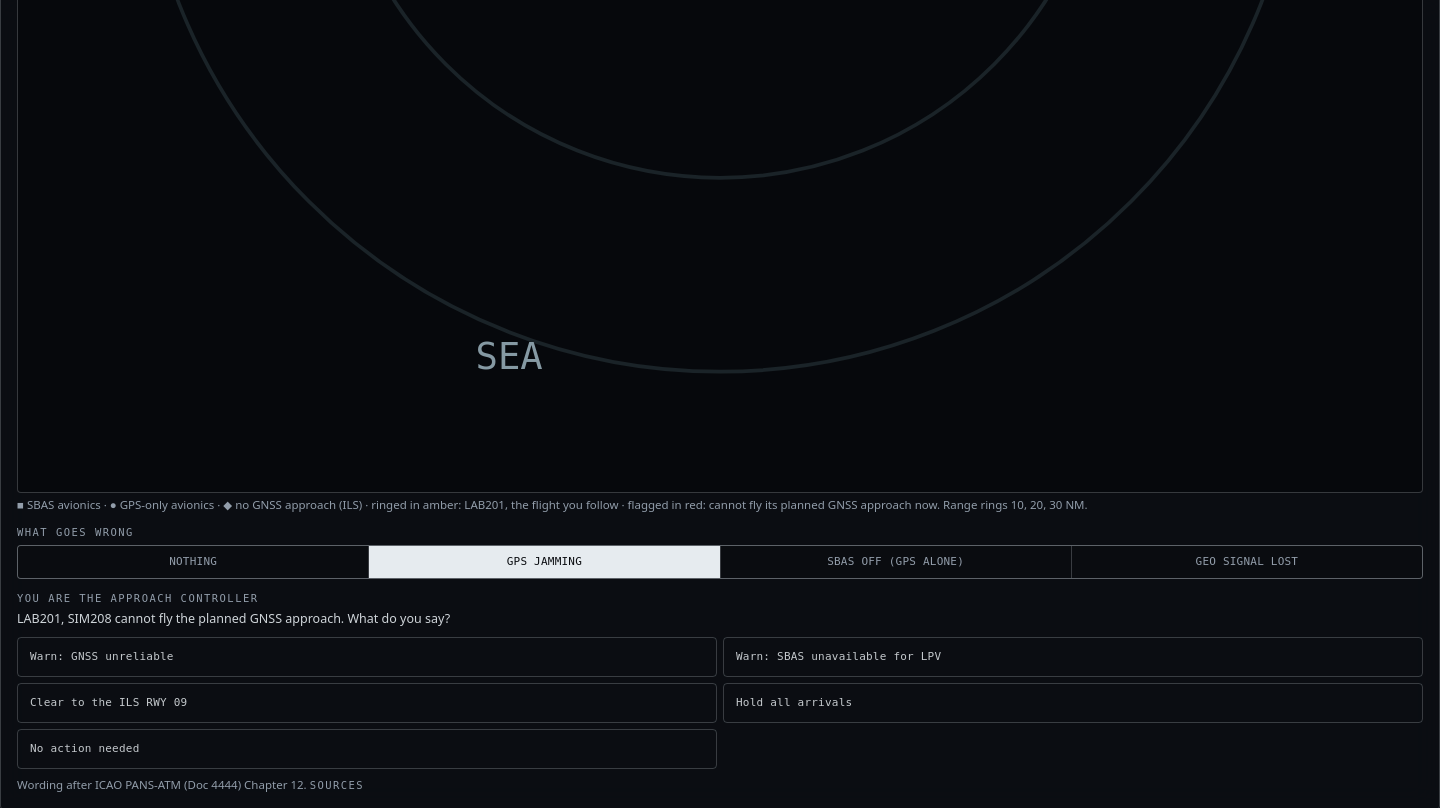
Test: under jamming flags the GNSS arrivals, and "GNSS reported unreliable" is right while holding is not
The image size is (1440, 808).
(page scrolled)
Click the button "Hold all arrivals" at x=794, y=702, box [723,683,1423,723]
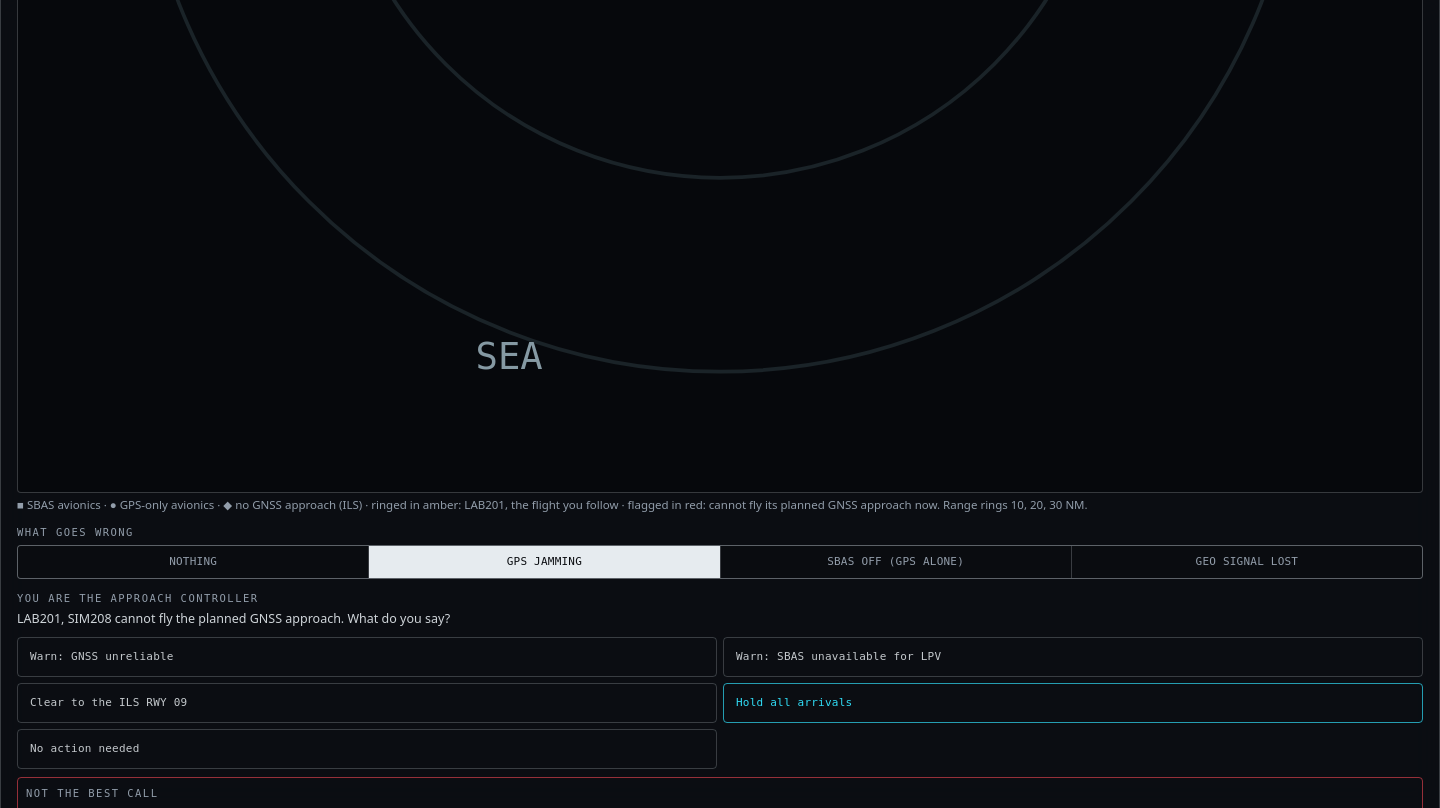
Result: the text "Not the best call" is shown at [26,787,158,799]
Click the button "Warn: GNSS unreliable" at x=102, y=656, box [17,637,717,677]
(page scrolled)
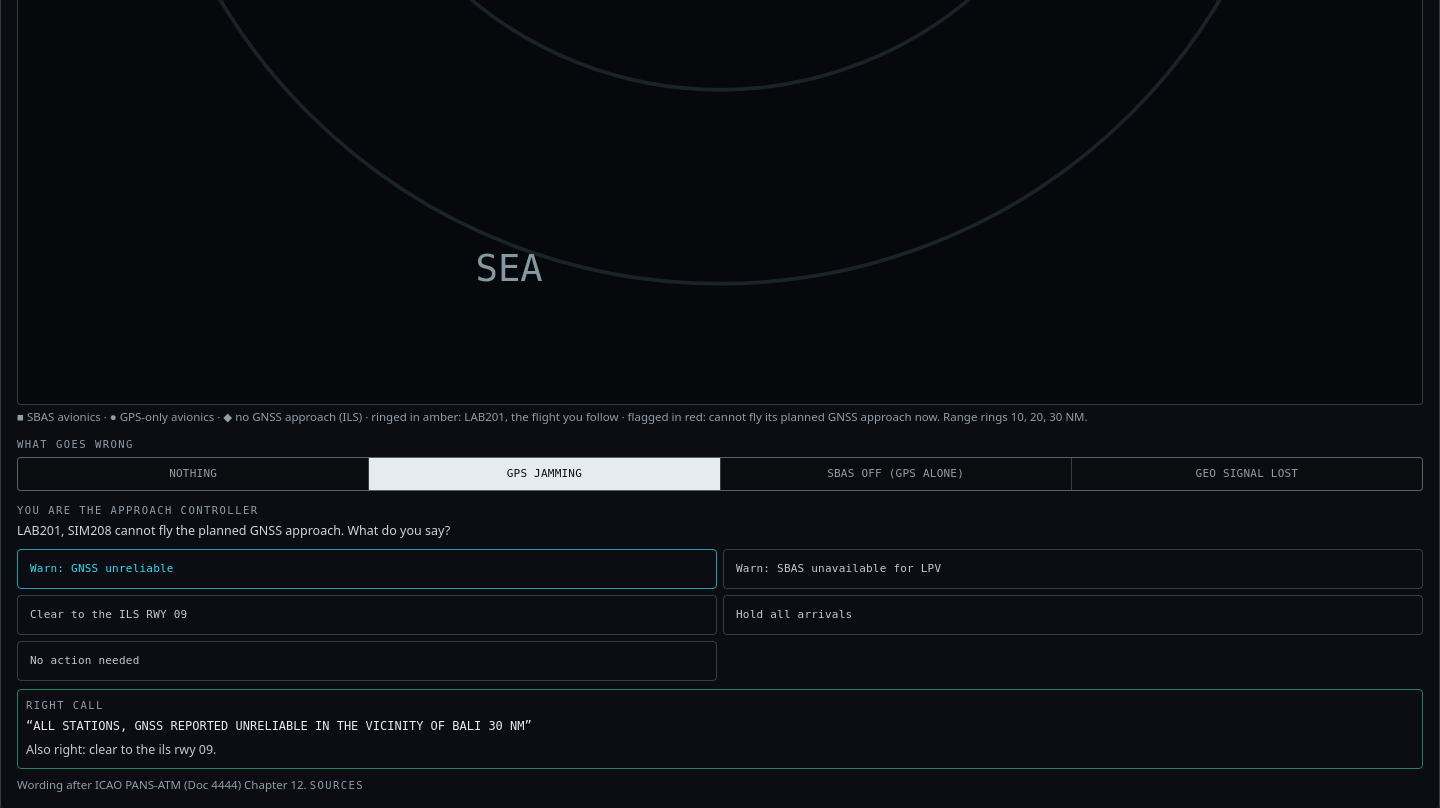
Result: the text "Right call" is shown at [26,699,104,711]
Result: the text "GNSS REPORTED UNRELIABLE IN THE VICINITY OF" is shown at [33,719,524,733]
